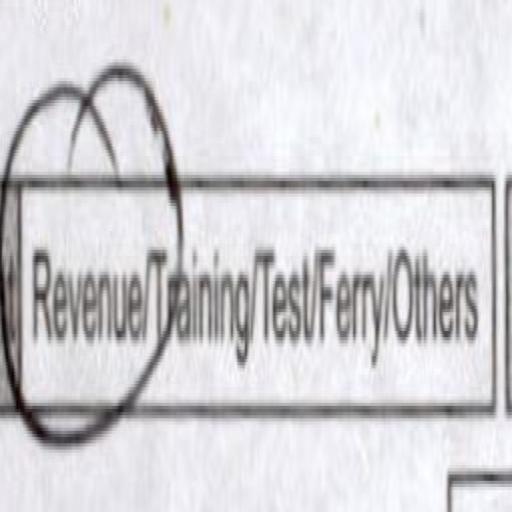check: (20, 57, 152, 452)
